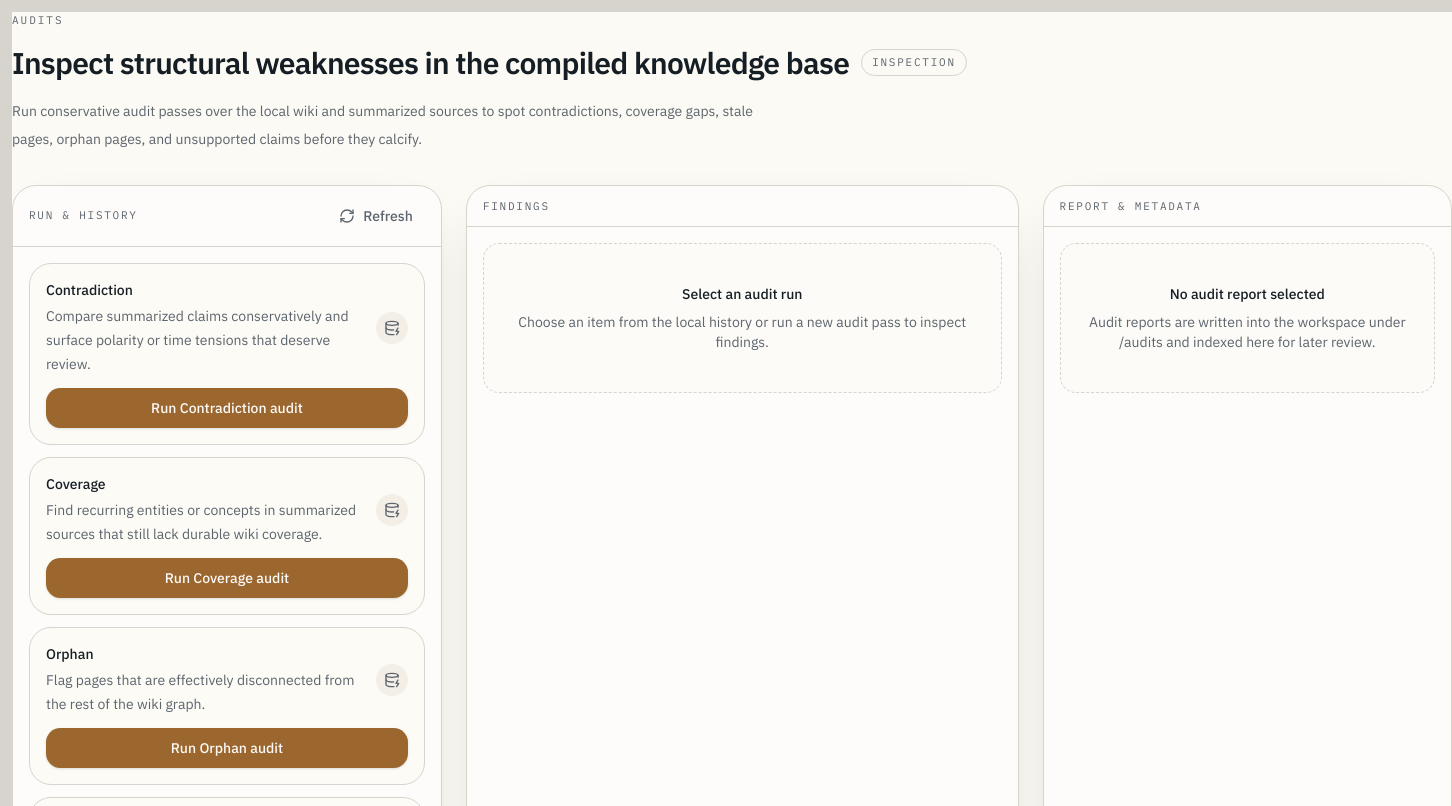
Test: audit browser › runs a new audit from the UI and shows the resulting report
The image size is (1452, 806).
Click the button "Run Coverage audit".
click(227, 578)  # box [46,558,408,598]
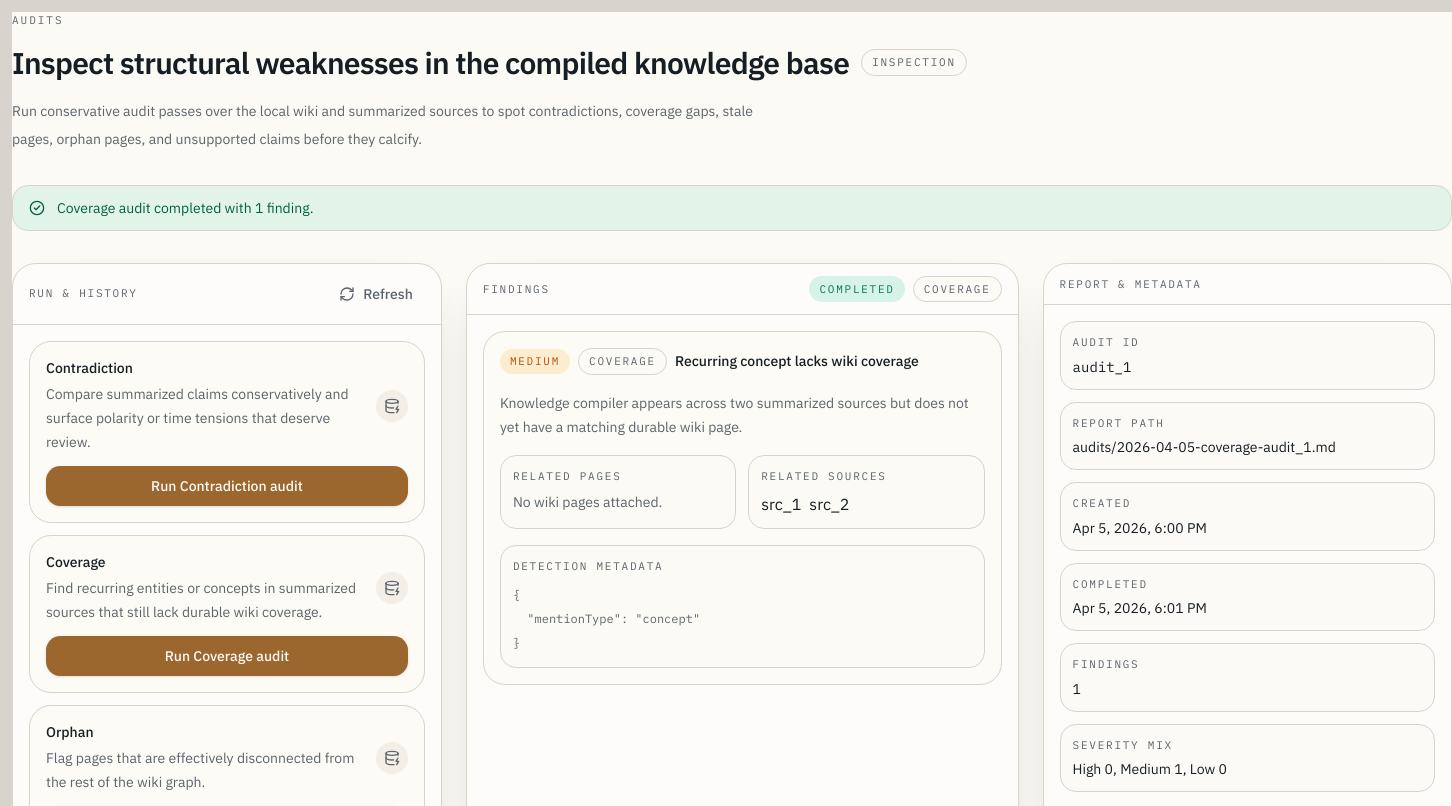
Now the text "Coverage audit completed with 1 finding." is shown, box [57,198,314,218]
Now the text "Recurring concept lacks wiki coverage" is shown, box [675,351,919,371]
